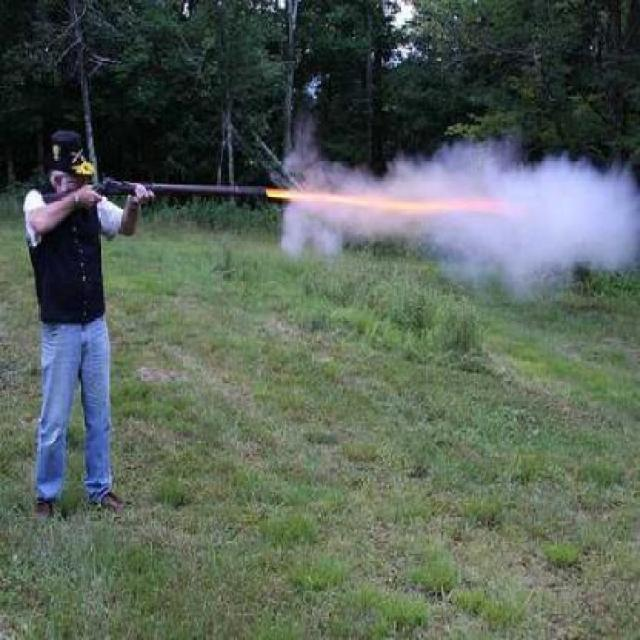weapon: (87, 164, 276, 232)
